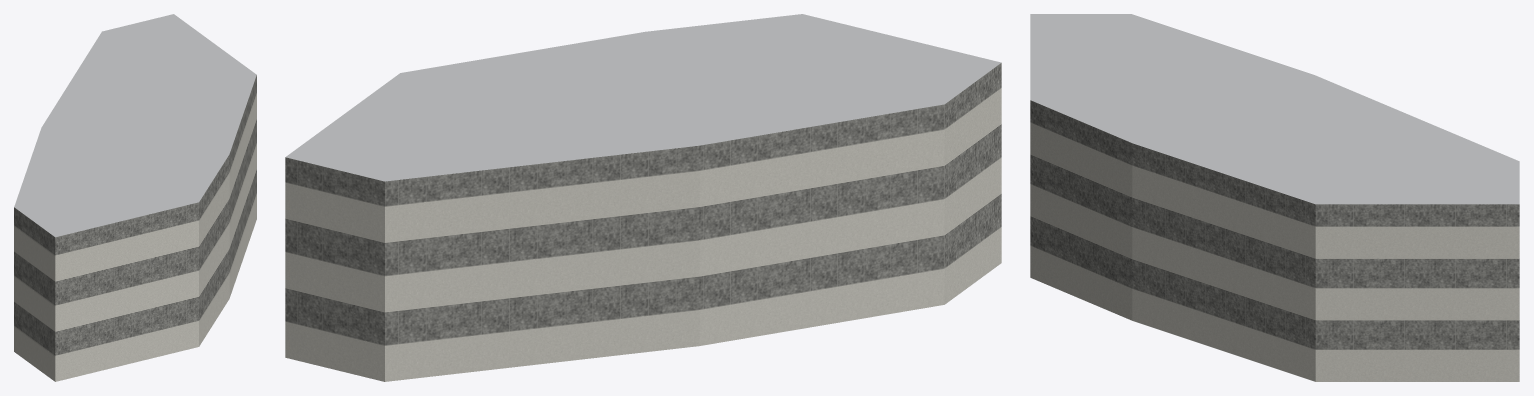
File: bldg_far_04.gltf
3 views of the same model, side by side, from view 1: azimuth 30°, elevation 25°; view 2: azimuth 150°, elevation 25°; view 3: azimuth 270°, elevation 25° (orthographic). The views are drawn at different scales.
Parts seen in each view (by area): view 1: bldg_far_04.facade, bldg_far_04.roof; view 2: bldg_far_04.facade, bldg_far_04.roof; view 3: bldg_far_04.facade, bldg_far_04.roof.
Part boxes in pixels (box(x1,y1,x2,y2)): bldg_far_04.facade: box(14, 75, 256, 381); bldg_far_04.roof: box(14, 14, 256, 237); bldg_far_04.facade: box(285, 63, 1001, 381); bldg_far_04.roof: box(285, 14, 1001, 181); bldg_far_04.facade: box(1030, 100, 1519, 381); bldg_far_04.roof: box(1030, 14, 1519, 204).
Bounding box in the file's own units: 26.52 × 11.53 × 28.79.
Materials: 2 (1 with a texture image).
